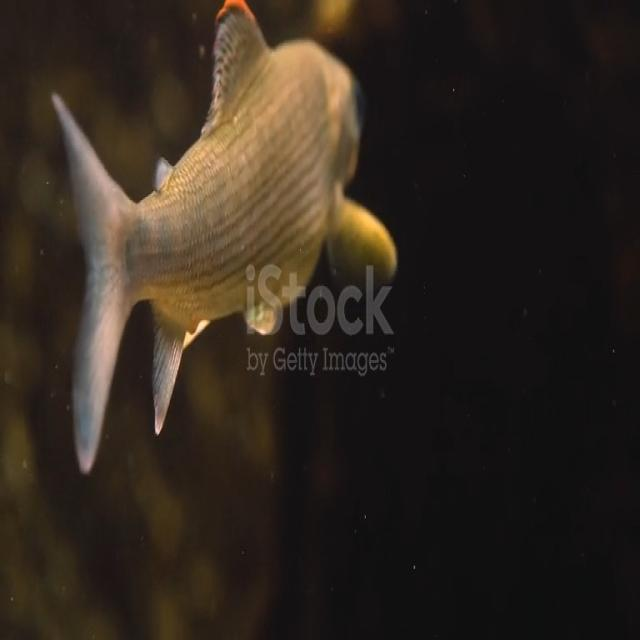fish: (48, 0, 403, 476)
